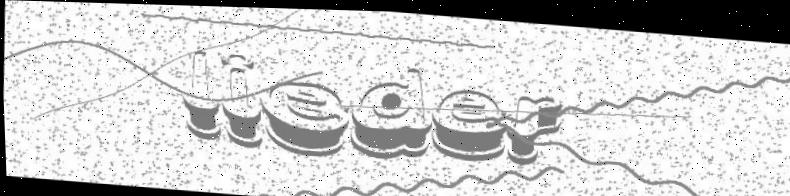d: (345, 57, 432, 161)
e: (255, 63, 349, 159), (427, 79, 508, 160)
l: (175, 44, 225, 139)
o: (217, 53, 262, 145)
r: (505, 85, 567, 167)
